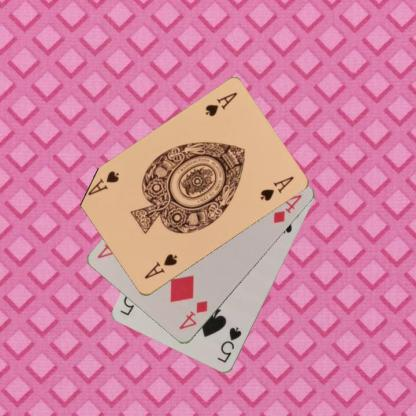4d: (176, 298, 209, 331)
5s: (215, 324, 243, 364)
As: (142, 251, 178, 281), (202, 90, 239, 118)
